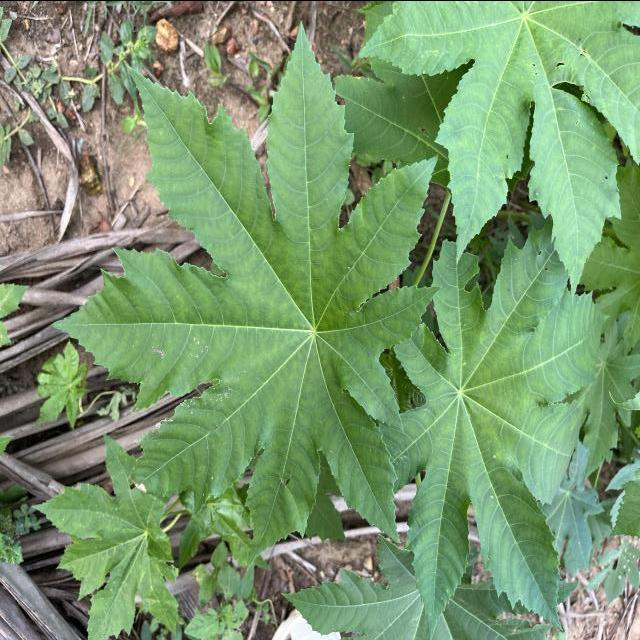Ricinus communis linn: (43, 13, 448, 567), (376, 215, 614, 636)
